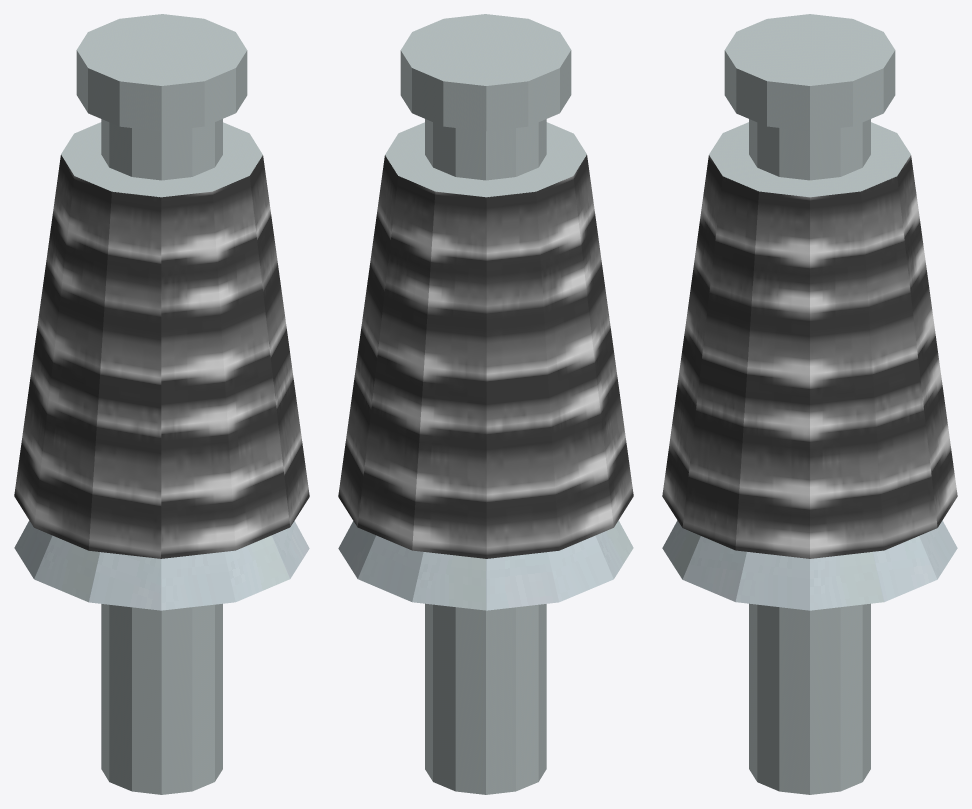
Rendered from pj003-geode.glb.
3 views of the same model, side by side, from view 1: azimuth 30°, elevation 25°; view 2: azimuth 150°, elevation 25°; view 3: azimuth 270°, elevation 25° (orthographic).
Visible parts, largest first — view 1: Node; view 2: Node; view 3: Node.
Boxes of the visible parts, box(x1,y1,x2,y2) form: Node: box(14, 14, 309, 794); Node: box(338, 14, 633, 794); Node: box(662, 14, 957, 794).
Bounding box in the file's own units: 0.13 × 0.3492 × 0.13.
4 materials, 4 textured.
